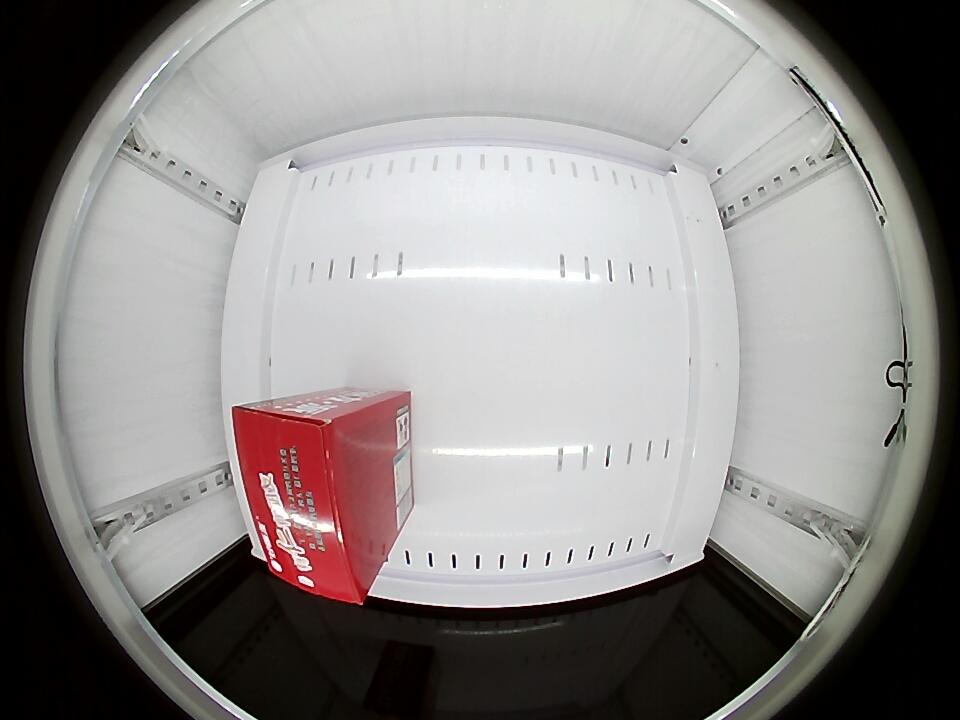haoliyou: (232, 396, 391, 602)
